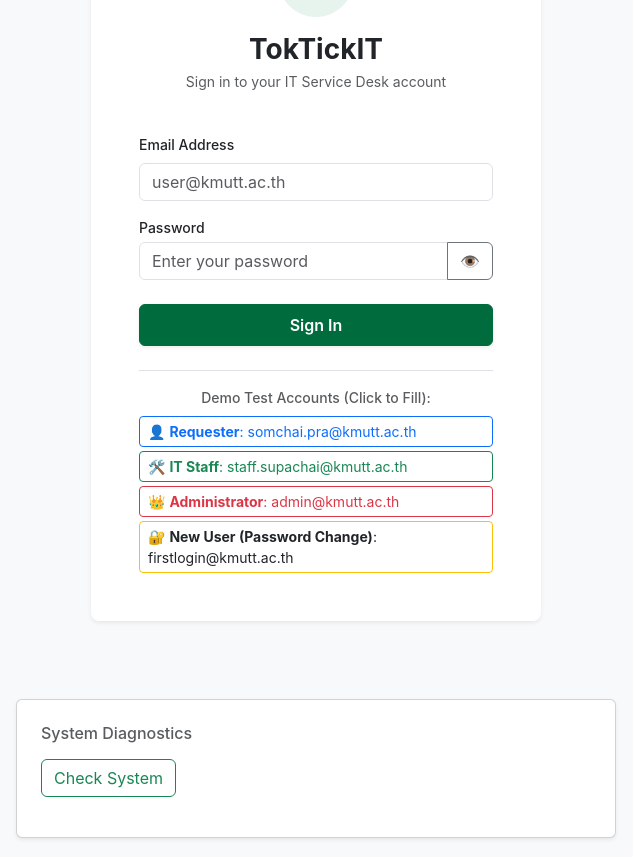
Test: TokTickIT App Component › Loading state changes to category list on success
(page scrolled)
Click the button "Check System" at (108, 778), box [41,759,176,797]
(page scrolled)
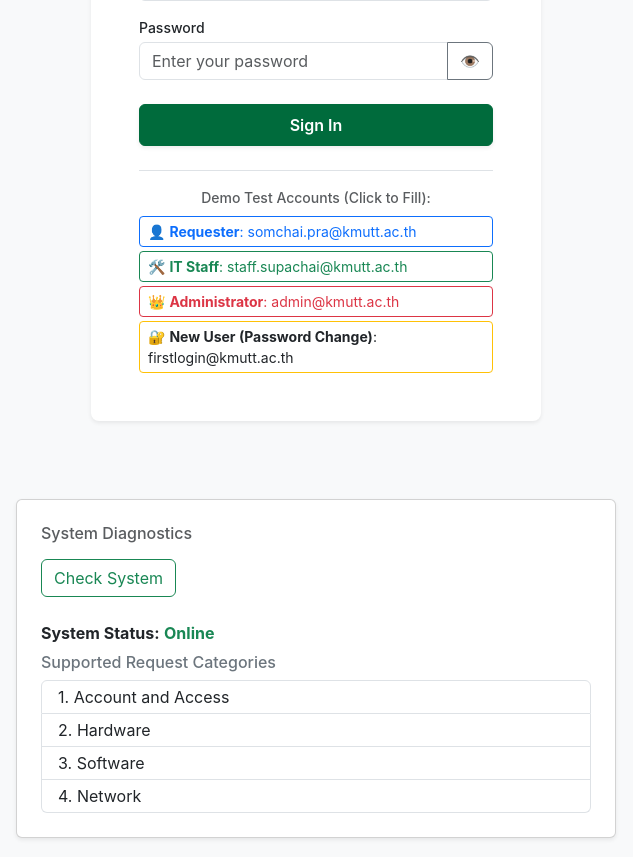
Expected: the text "Online" is shown, [164,623,214,643]
Expected: the list item "Account and Access" is shown, [41,680,591,714]
Expected: the list item "Hardware" is shown, [41,714,591,747]
